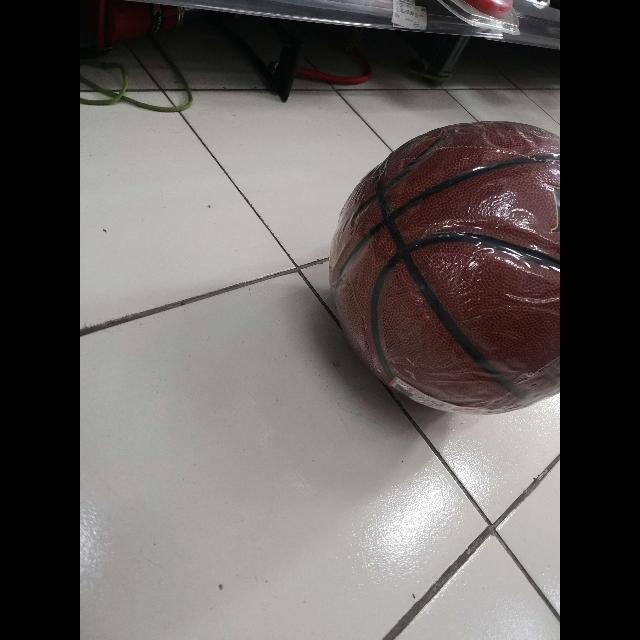basketball: (334, 124, 560, 410)
